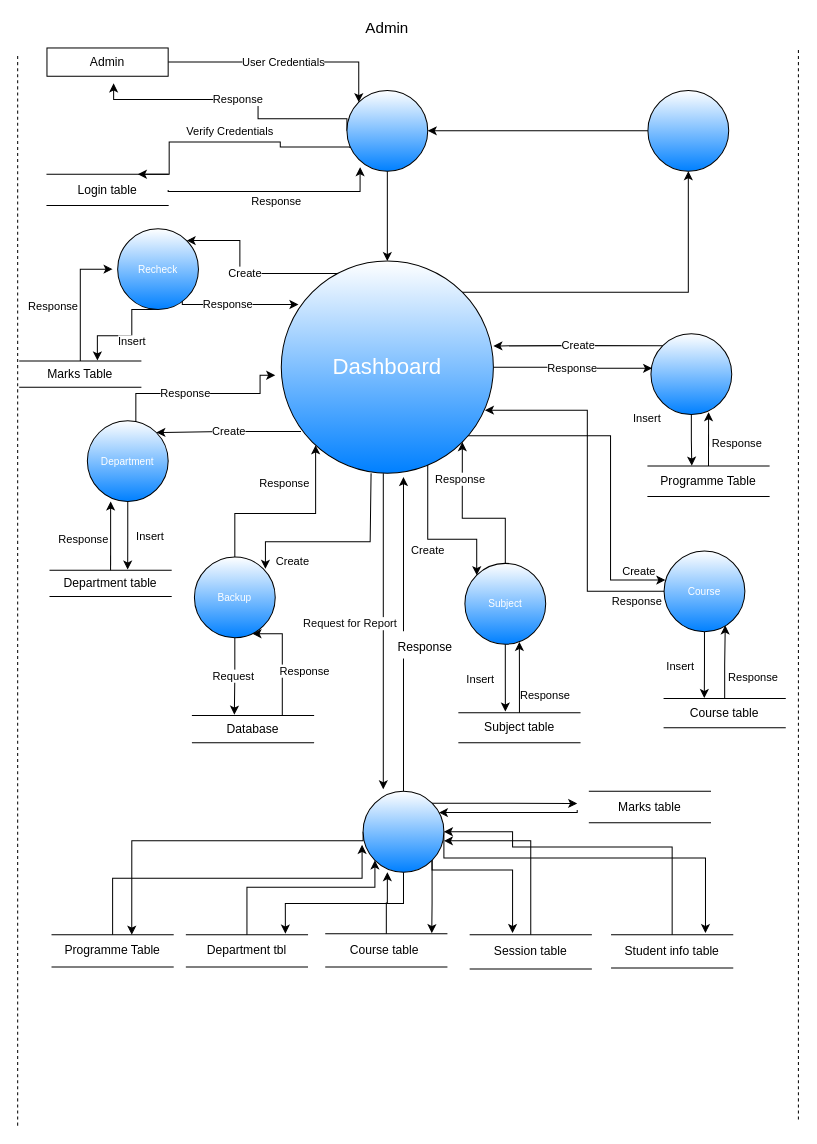
The diagram is 817 pixels wide and 1144 high, and some of its shapes have lost their labels. Each missing label, with the centre of its shape:
"Login" belongs at (387,130).
"Logout" belongs at (688,130).
"Programs" belongs at (691,374).
"Report" belongs at (403,831).
